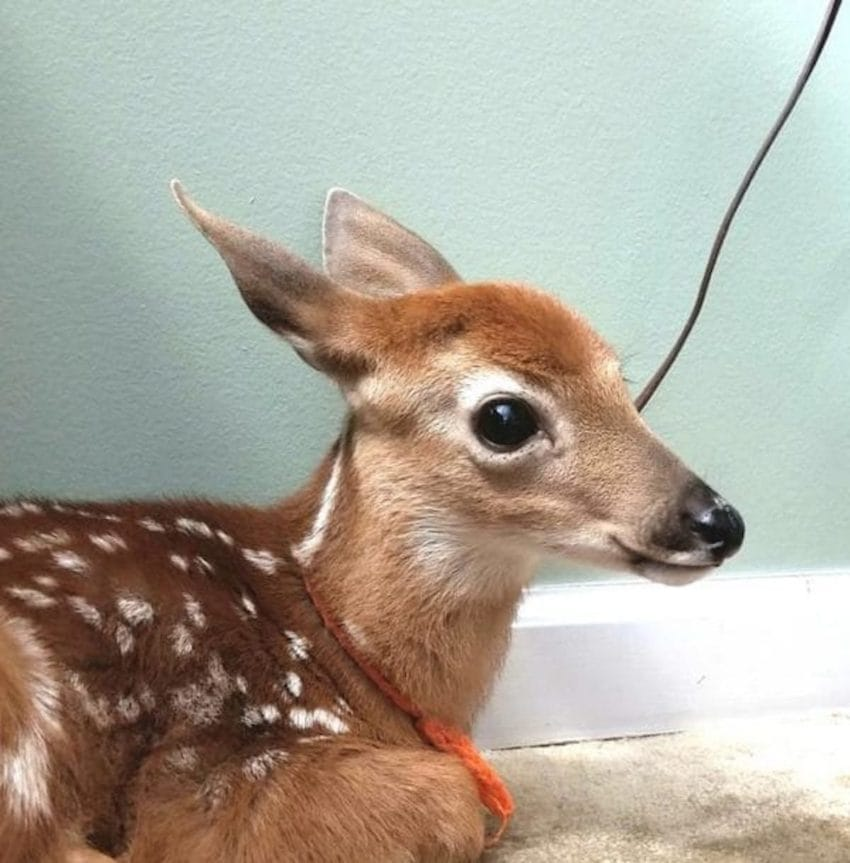Deer: (1, 189, 747, 857)
